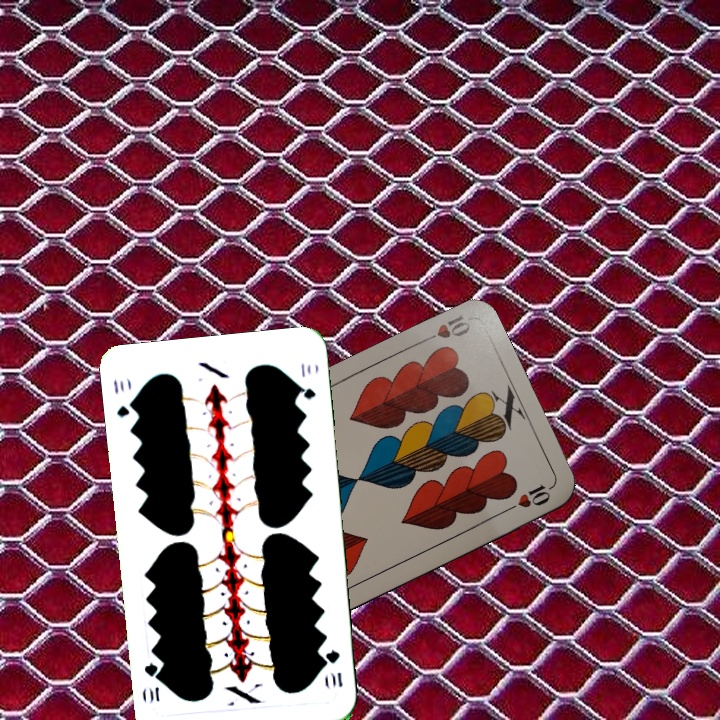G10: (109, 375, 138, 420), (322, 646, 345, 690)
H10: (416, 310, 473, 346)
